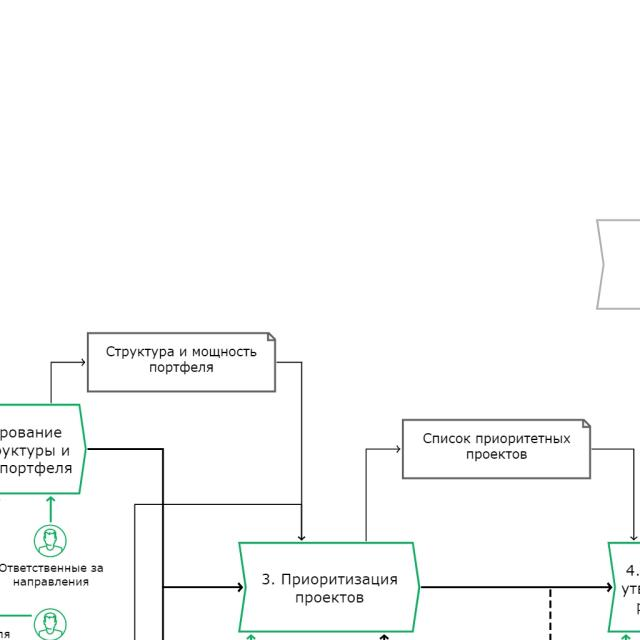arrow: (86, 443, 245, 594), (420, 579, 613, 595)
rectangle: (236, 540, 422, 634)
